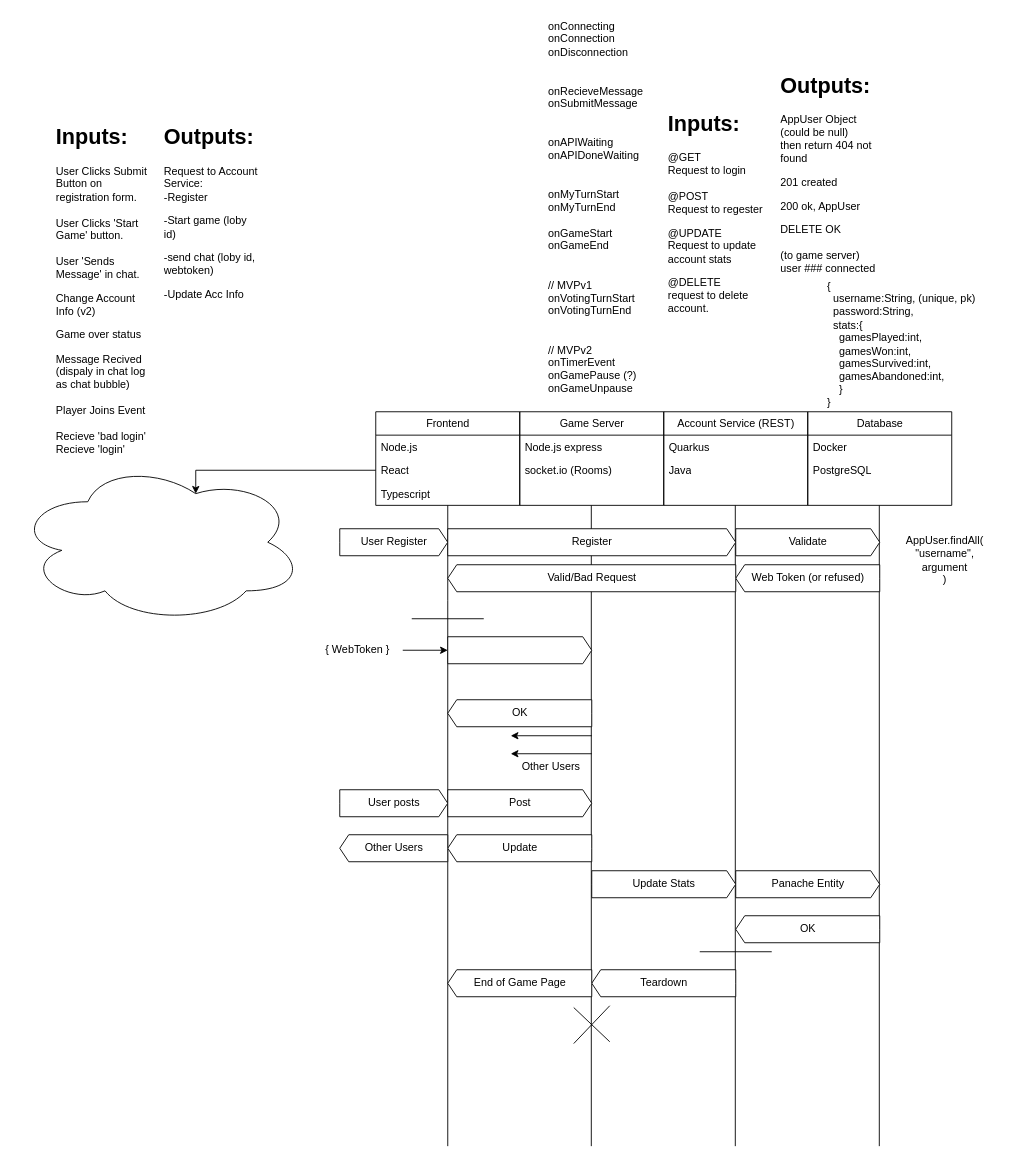
This 1031x1163 diagram has some shape labels left out. Each missing label, with the centre of its shape:
"Front End: Game UI Register / Login page Account Page (display stats) v1+" goes at pixel 159 541.
"Initiate connection" goes at pixel 519 650.
